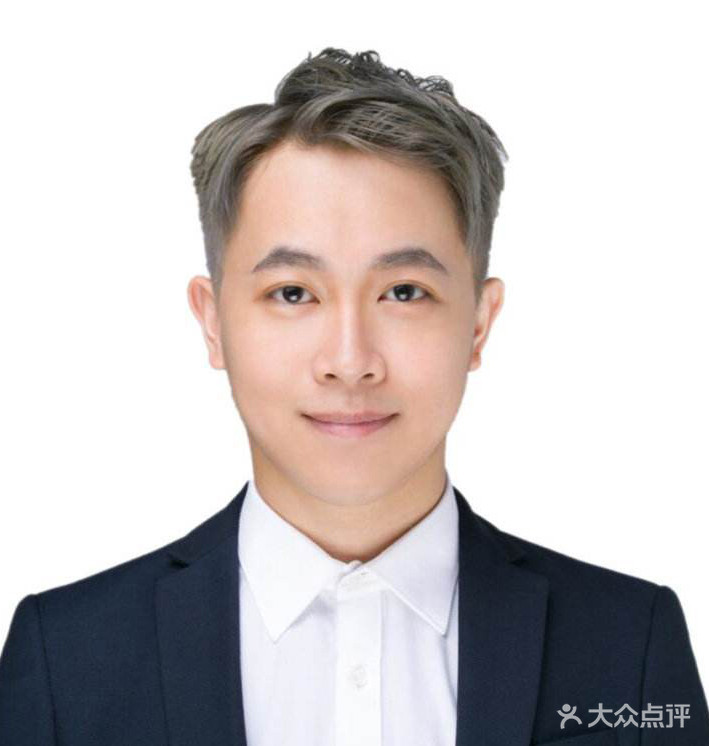unmask: (227, 189, 480, 491)
